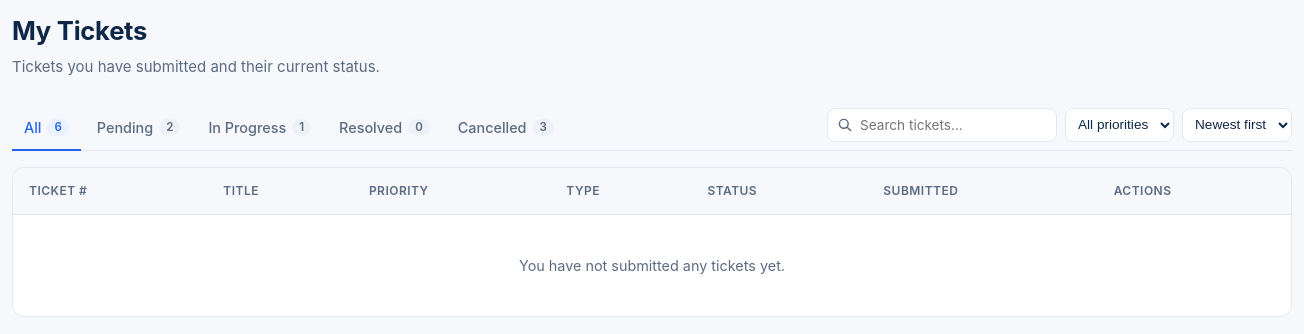
Test: MyTicketsComponent › clears the search immediately and ignores the pending debounce
The image size is (1304, 334).
Type "abc" into the search field with placeholder "Search tickets...".
click(942, 124); type("abc")  # box [827,108,1057,142]
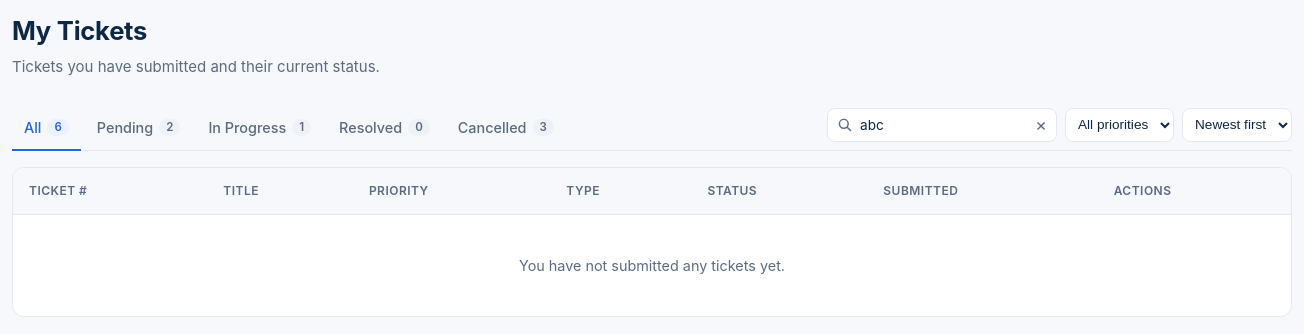
Click the button with class "search-clear".
click(1041, 124)  # box [1029,112,1053,136]
Wait 500 ms
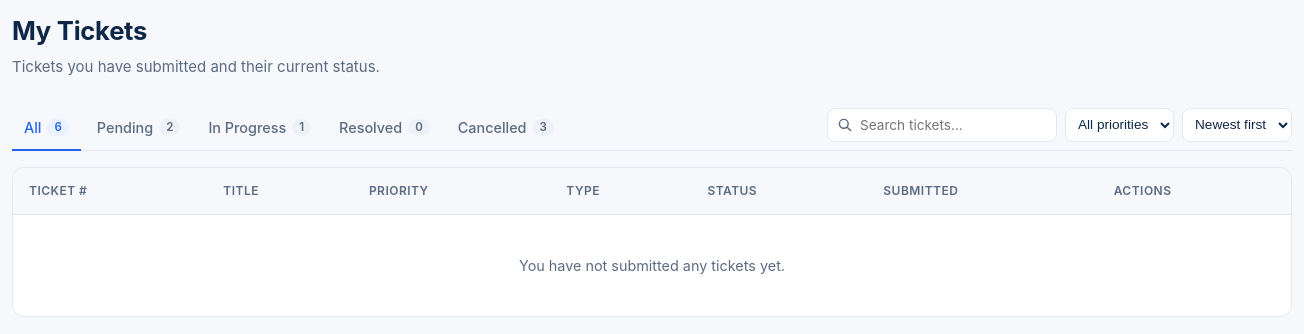
Type "abc" into the search field with placeholder "Search tickets...".
click(942, 124); type("abc")  # box [827,108,1057,142]
Wait 300 ms
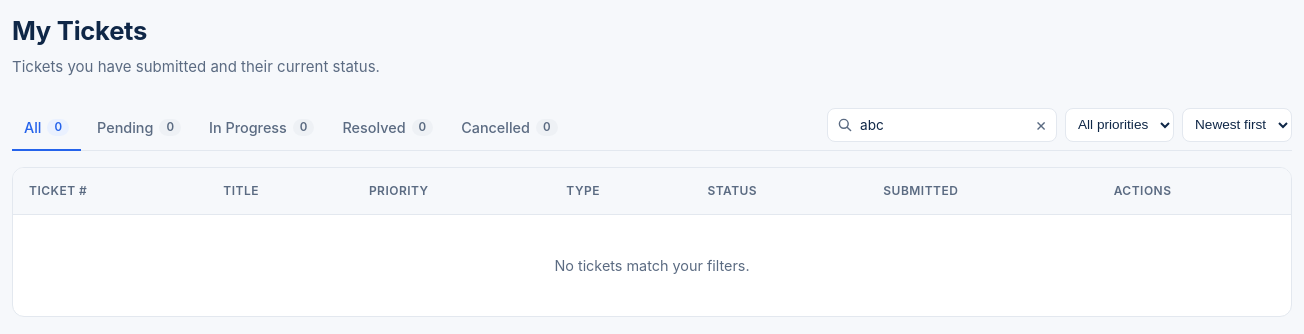
Click the button with class "search-clear".
click(1041, 124)  # box [1029,112,1053,136]
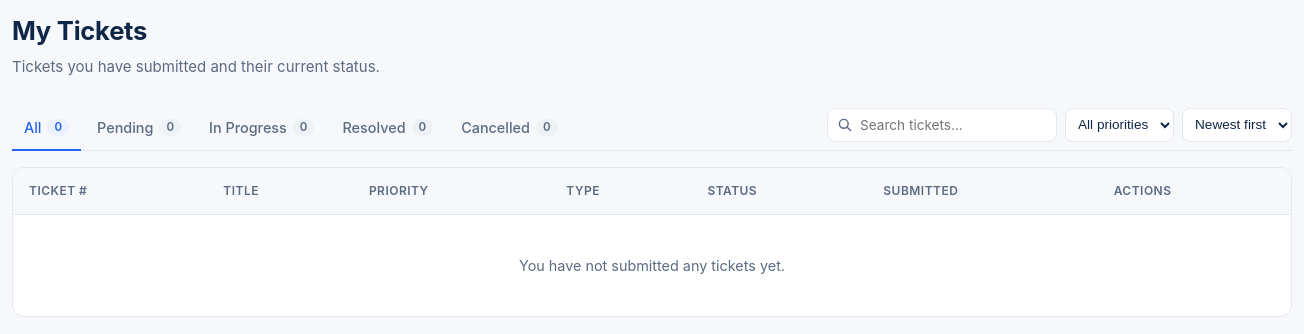
Check: the search field with placeholder "Search tickets..." is empty, box [827,108,1057,142]
